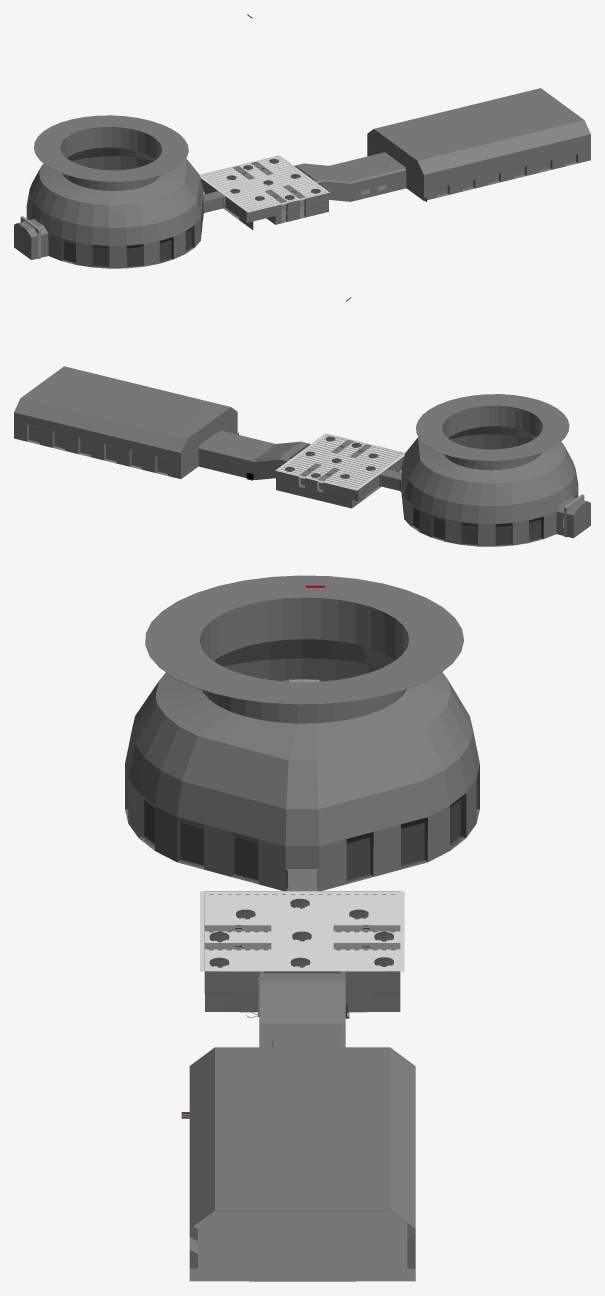
File: factoryfinal.fbx
The picture shows the model from 3 angles, top to bottom: view 1: azimuth 30°, elevation 25°; view 2: azimuth 150°, elevation 25°; view 3: azimuth 270°, elevation 25°; orthographic projection. The views are drawn at different scales.
Parts seen in each view (by area): view 1: Plane, Plane.001; view 2: Plane, Plane.001; view 3: Plane, Plane.001.
Boxes of the visible parts, x1,y1,x2,y2 form: Plane: (14,88,590,268); Plane.001: (199,155,329,212); Plane: (14,366,590,546); Plane.001: (275,433,404,490); Plane: (125,575,479,1281); Plane.001: (200,891,404,971).
Bounding box in the file's own units: 4161 × 1449 × 1183.
